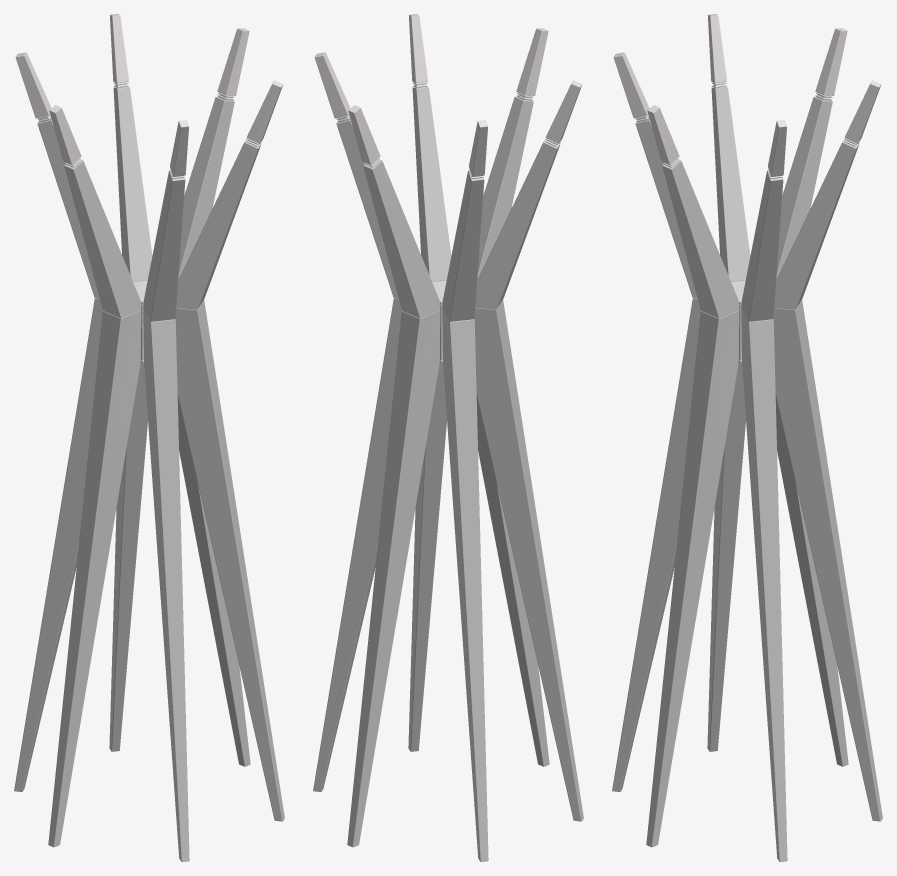
File: lamp001.glb
3 renders of one model, left to right at view 1: azimuth 30°, elevation 25°; view 2: azimuth 150°, elevation 25°; view 3: azimuth 270°, elevation 25°, orthographic.
Parts seen in each view (by area): view 1: Base, glass, silver; view 2: Base, glass, silver; view 3: Base, glass, silver.
Part boxes in pixels (<box>): Base: <box>14,86,284,861</box>; glass: <box>15,14,283,363</box>; silver: <box>37,82,258,360</box>; Base: <box>313,86,583,861</box>; glass: <box>314,14,582,363</box>; silver: <box>336,82,557,360</box>; Base: <box>612,86,882,861</box>; glass: <box>613,14,881,363</box>; silver: <box>635,82,856,360</box>.
Size of the model in its own units: 42.96 by 129 by 42.96.
Materials: 3 (2 with a texture image).
